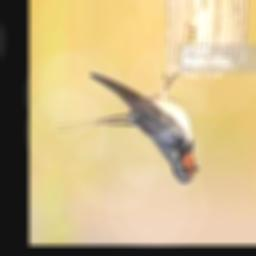Swallow: (55, 73, 199, 184)
